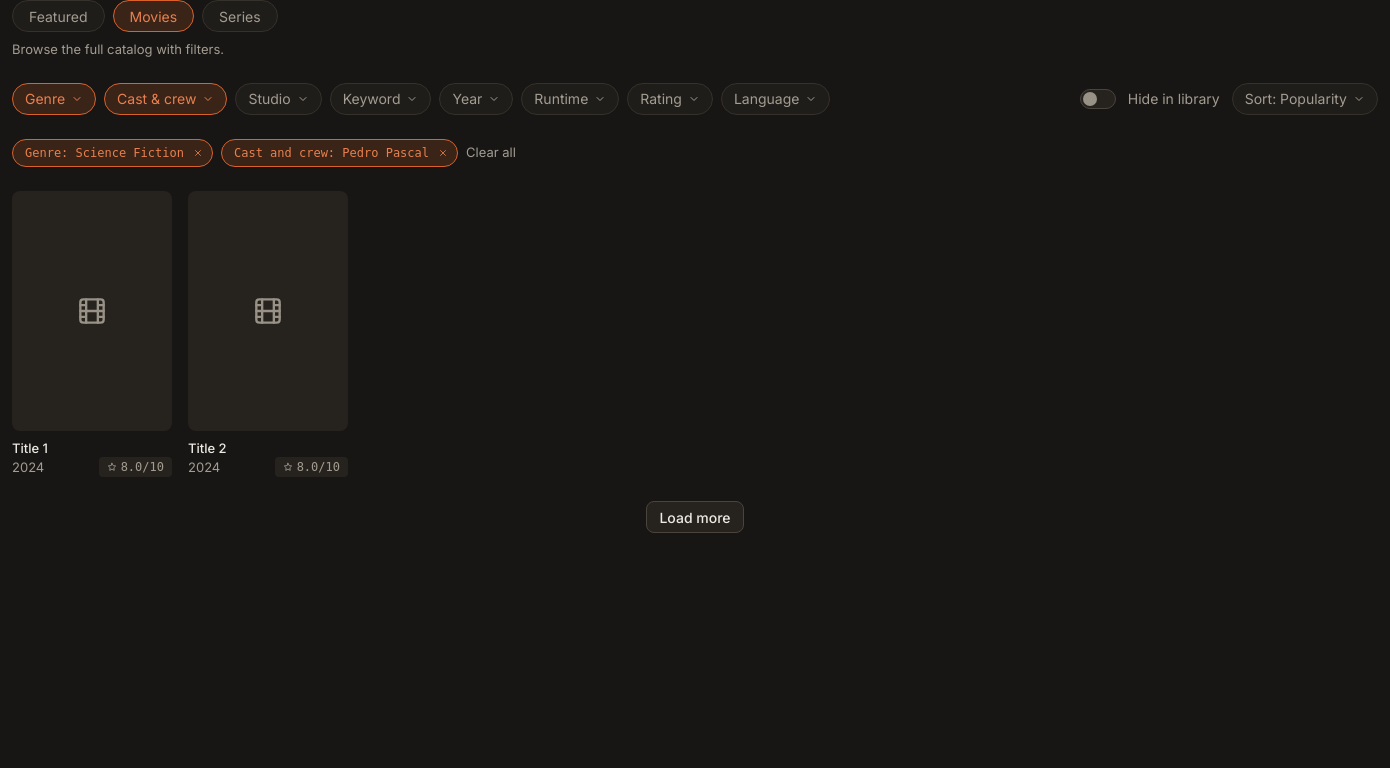
Test: a filtered movie scope › rewrites the URL and re-asks when a chip is removed
Click the button named "Remove filter Genre: Science Fiction": (198, 153) [190,145,206,161]
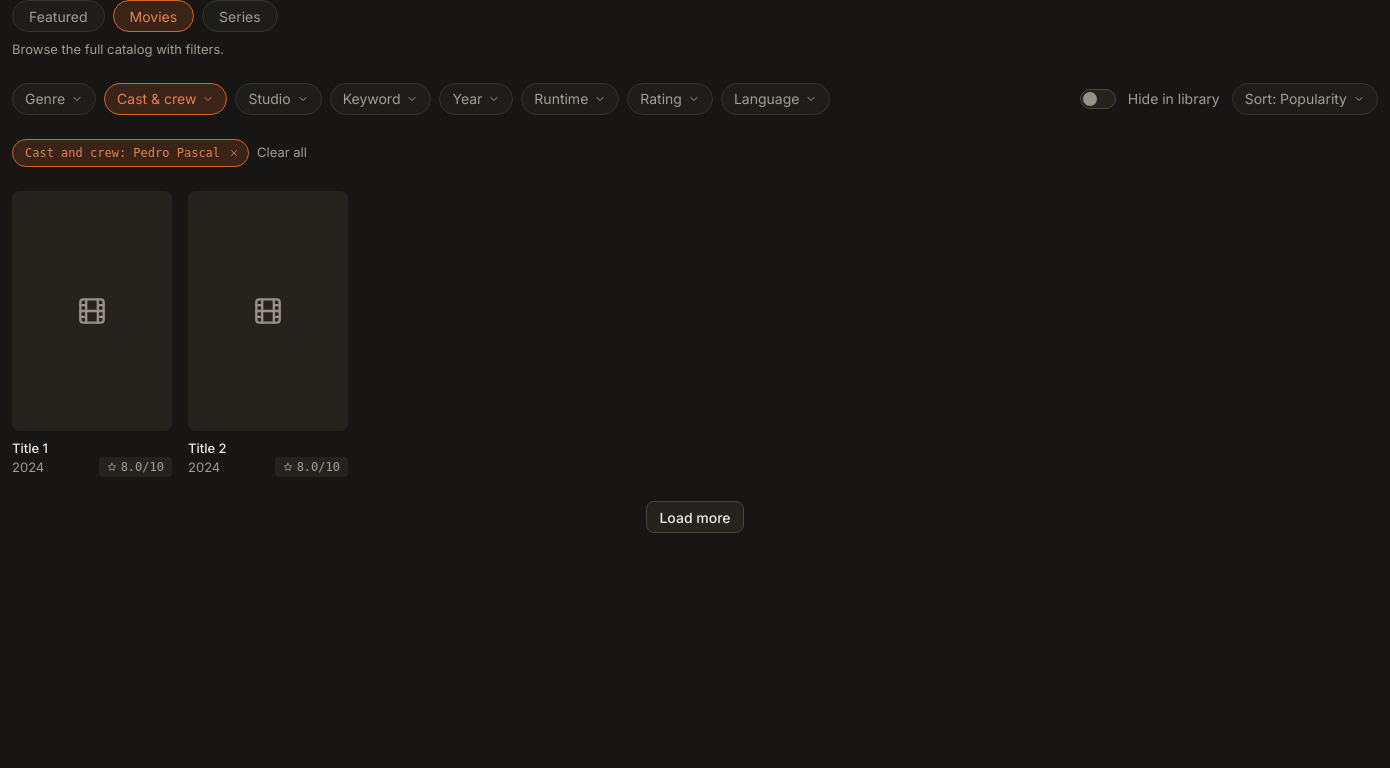
expect the text "Genre: Science Fiction" is gone: met
